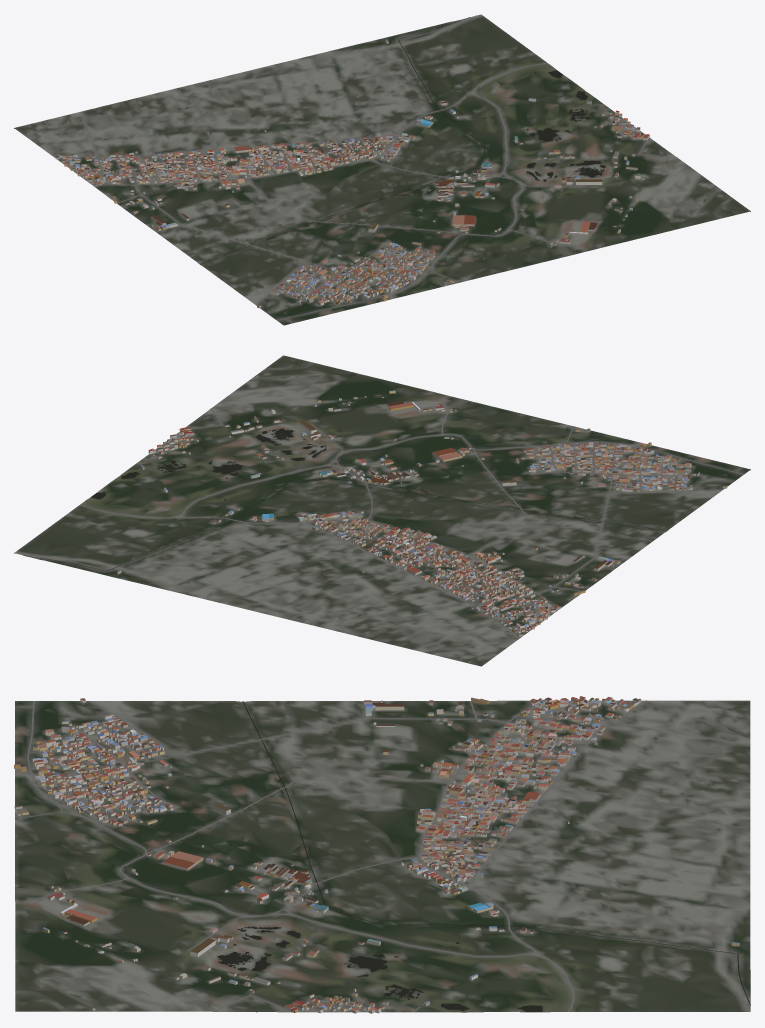
The picture shows the model from 3 angles, top to bottom: view 1: azimuth 30°, elevation 25°; view 2: azimuth 150°, elevation 25°; view 3: azimuth 270°, elevation 25°; orthographic projection. The views are drawn at different scales.
Visible parts, largest first — view 1: ground, buildings, roads, water; view 2: ground, buildings, roads, water; view 3: ground, buildings, roads, water.
Part boxes in pixels (<box>): ground: <box>14,14,750,325</box>; buildings: <box>55,39,720,308</box>; roads: <box>52,63,677,323</box>; water: <box>200,17,605,264</box>; ground: <box>14,355,750,666</box>; buildings: <box>116,375,727,636</box>; roads: <box>80,399,743,650</box>; water: <box>24,428,666,571</box>; ground: <box>15,700,750,1012</box>; buildings: <box>14,696,739,1013</box>; roads: <box>15,700,750,1012</box>; water: <box>217,701,750,1011</box>.
Bounding box in the file's own units: 1415 × 16.7 × 1405.
